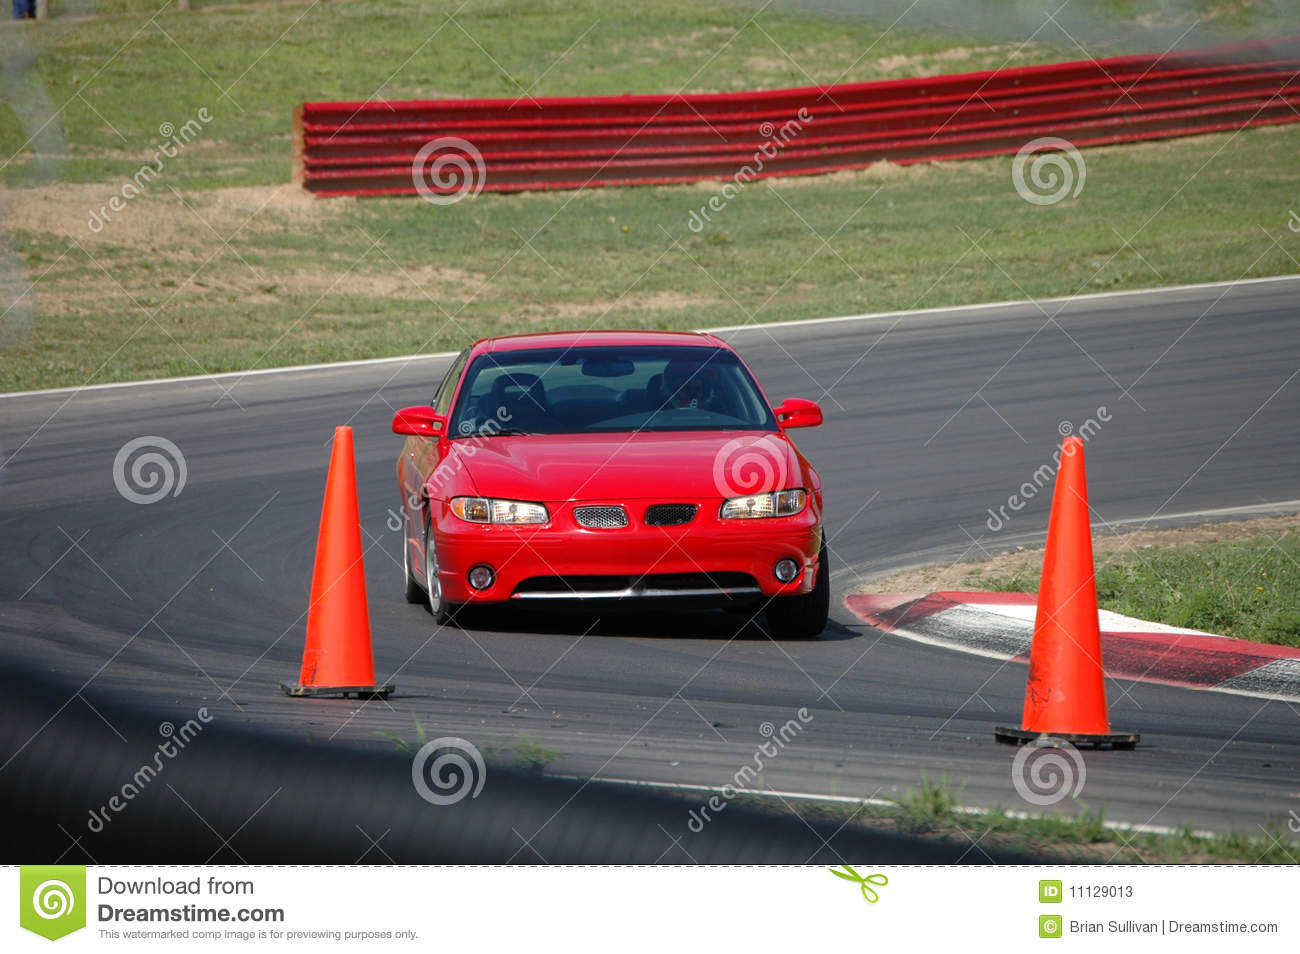cone: (990, 426, 1143, 757), (277, 413, 412, 711)
